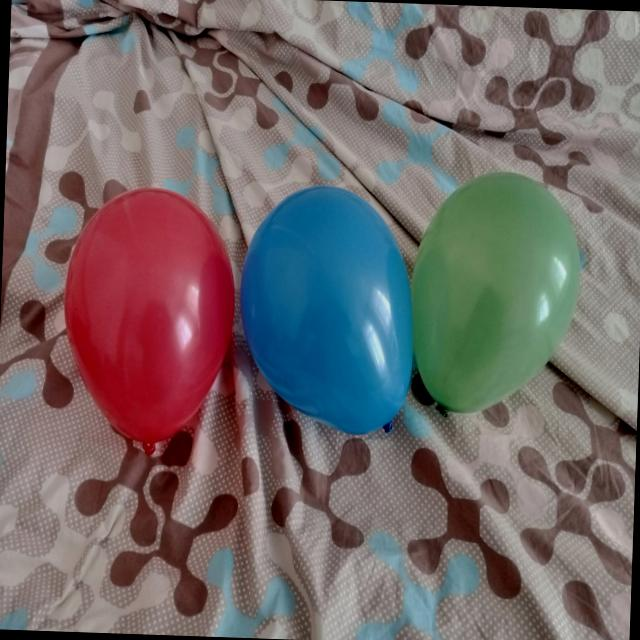balloon: (64, 187, 234, 449), (240, 185, 412, 434), (410, 172, 579, 412)
